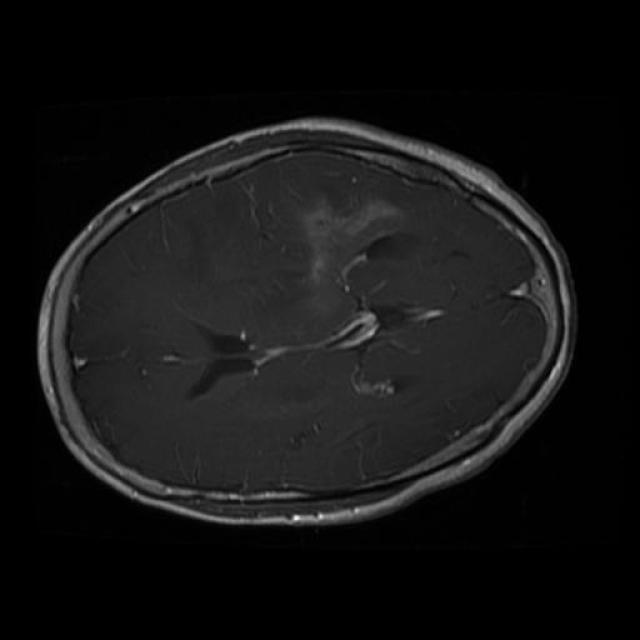Glioma: (288, 166, 404, 282)
